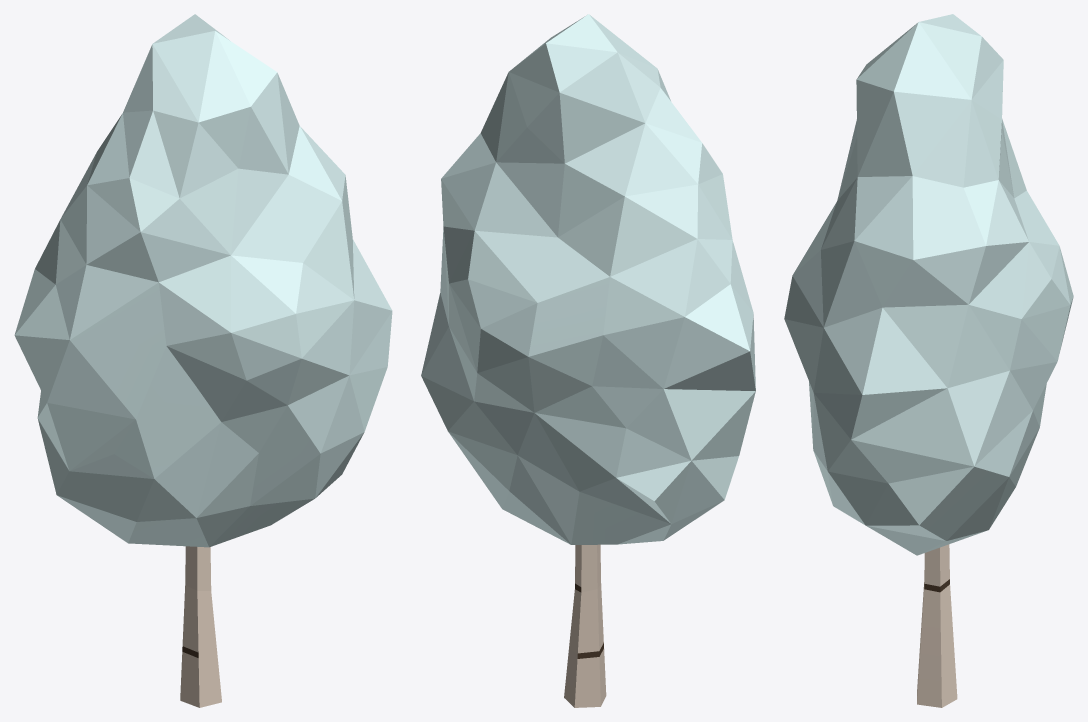
The model's file is tree-birch_white.glb.
3 views of the same model, side by side, from view 1: azimuth 30°, elevation 25°; view 2: azimuth 150°, elevation 25°; view 3: azimuth 270°, elevation 25° (orthographic).
Parts seen in each view (by area): view 1: tree-birch_winter; view 2: tree-birch_winter; view 3: tree-birch_winter.
Part boxes in pixels (x1,y1,x2,y2): tree-birch_winter: (14, 14, 392, 707); tree-birch_winter: (421, 14, 755, 707); tree-birch_winter: (784, 14, 1073, 707).
Bounding box in the file's own units: 3.48 × 6.77 × 2.61.
Materials: 1 (1 with a texture image).
